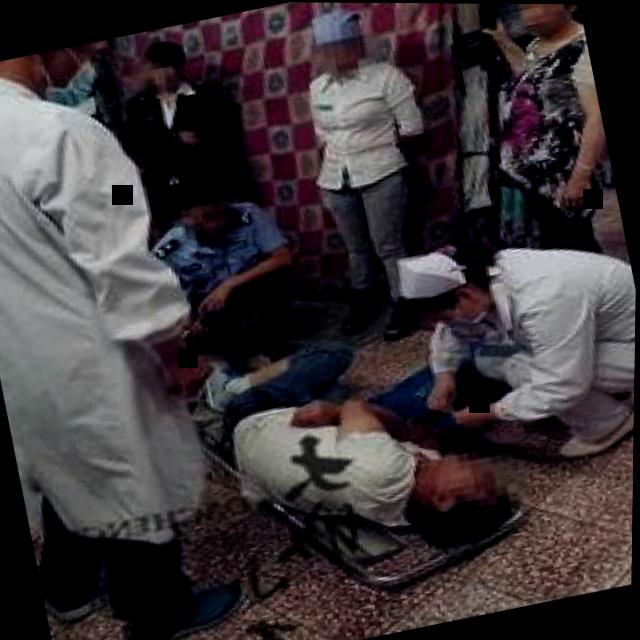Fall-Detected: (168, 257, 554, 598)
